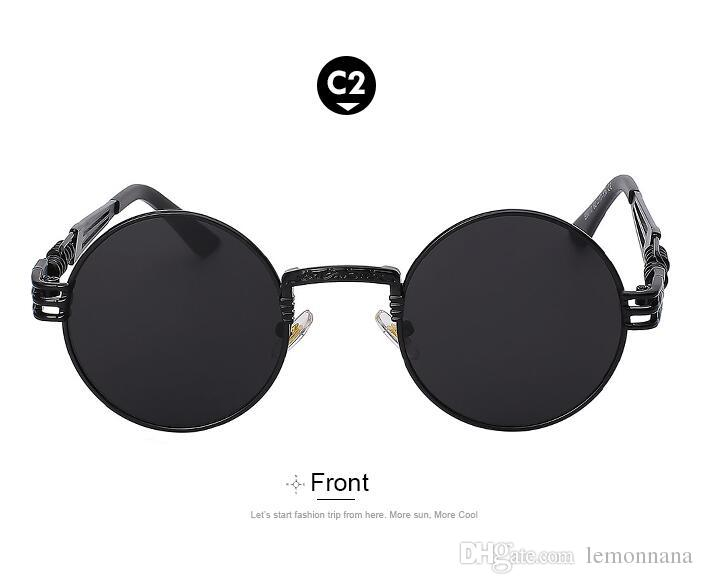sunglasses: (28, 184, 683, 468)
